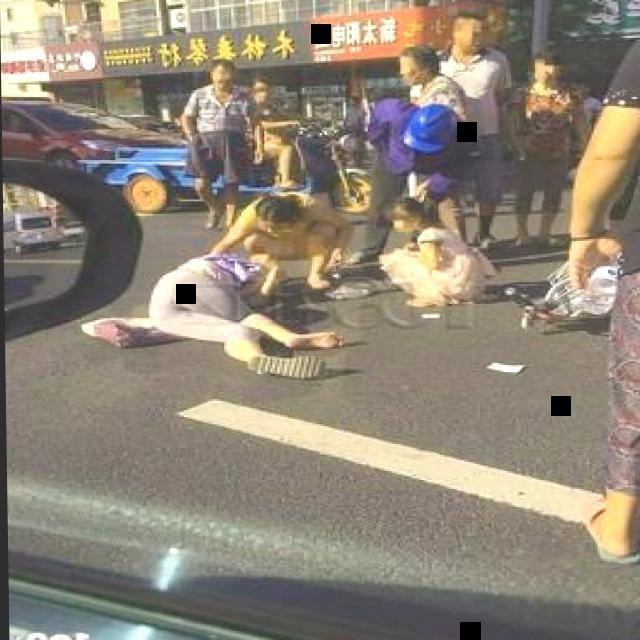Fall-Detected: (87, 236, 360, 372)
